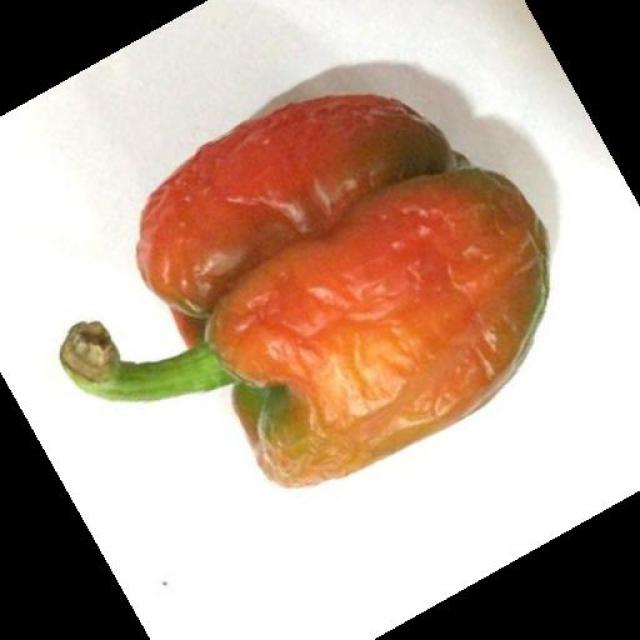Stale_Capsicum: (69, 114, 531, 472)
